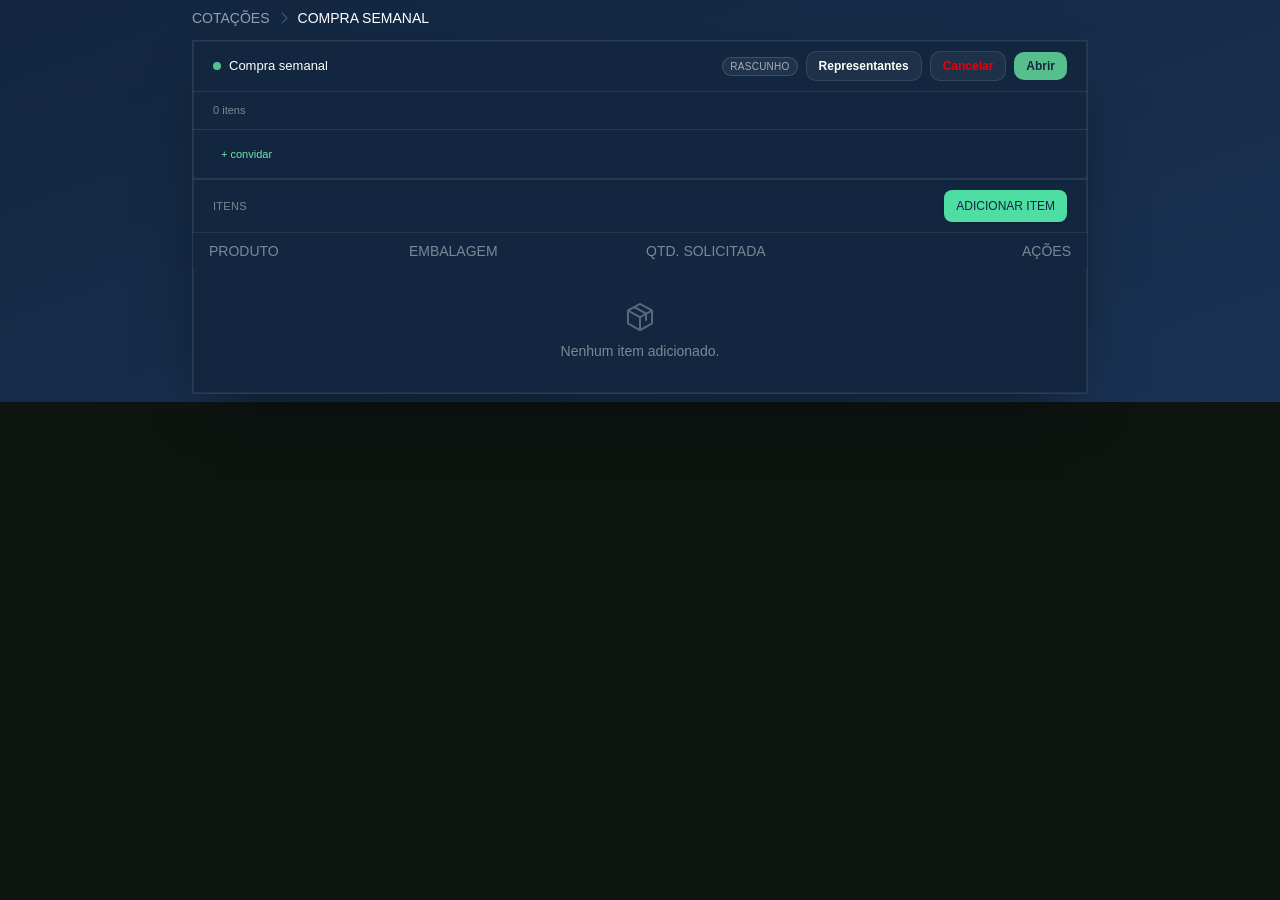
Test: 3.2 — em RASCUNHO adiciona e remove item
Expected: the heading "Compra semanal" is shown, top-left (229, 56), bottom-right (328, 76)
Click the button "Adicionar item". click: {"x": 1006, "y": 206}
box: top-left (944, 190), bottom-right (1067, 222)
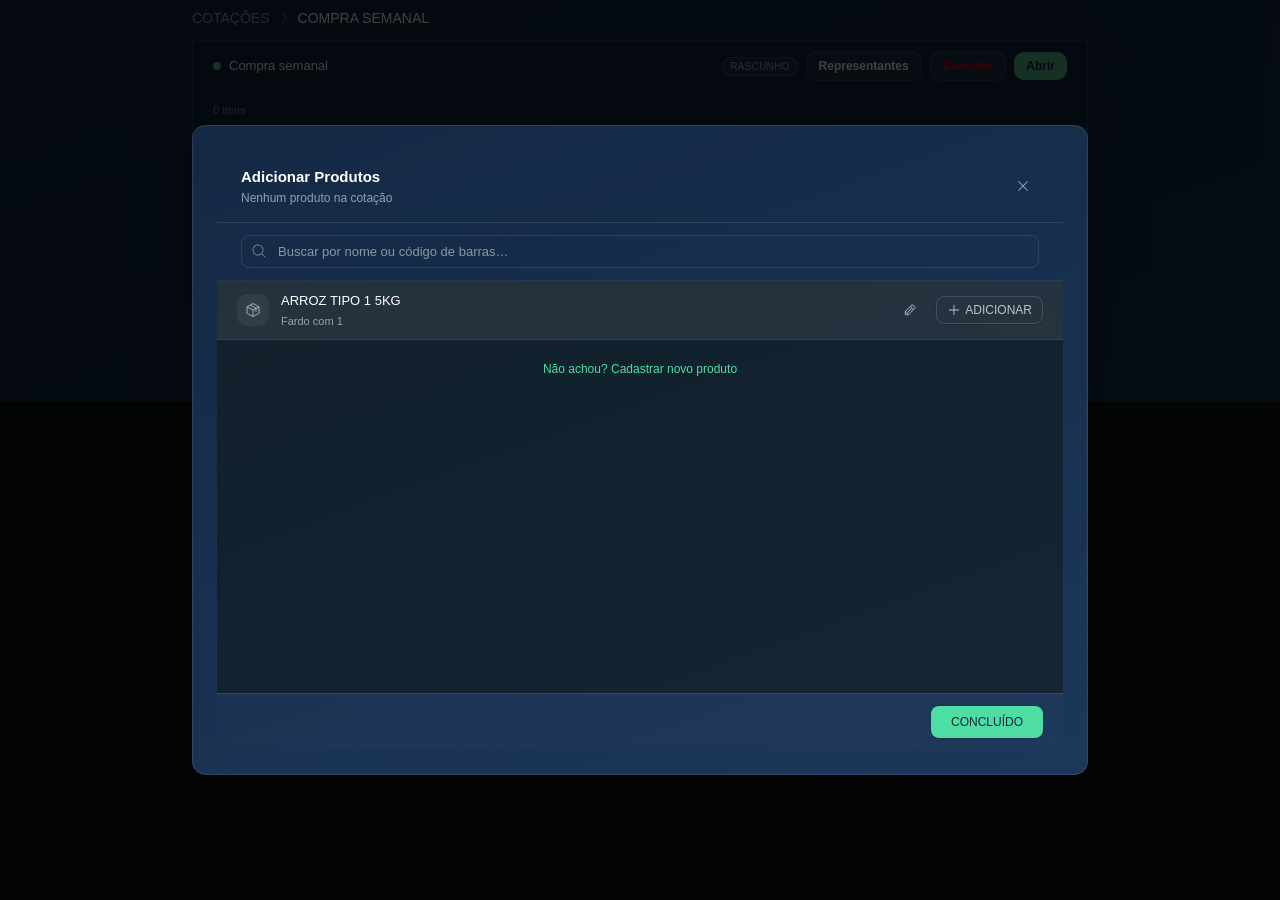
Expected: the text "Arroz Tipo 1 5kg" is shown, top-left (281, 293), bottom-right (401, 308)
# Clicar na linha adiciona o item na hora (sem rascunho/salvar em lote).
Click the button with aria-label "Adicionar Arroz Tipo 1 5kg à cotação". click: {"x": 990, "y": 310}
box: top-left (936, 296), bottom-right (1043, 324)
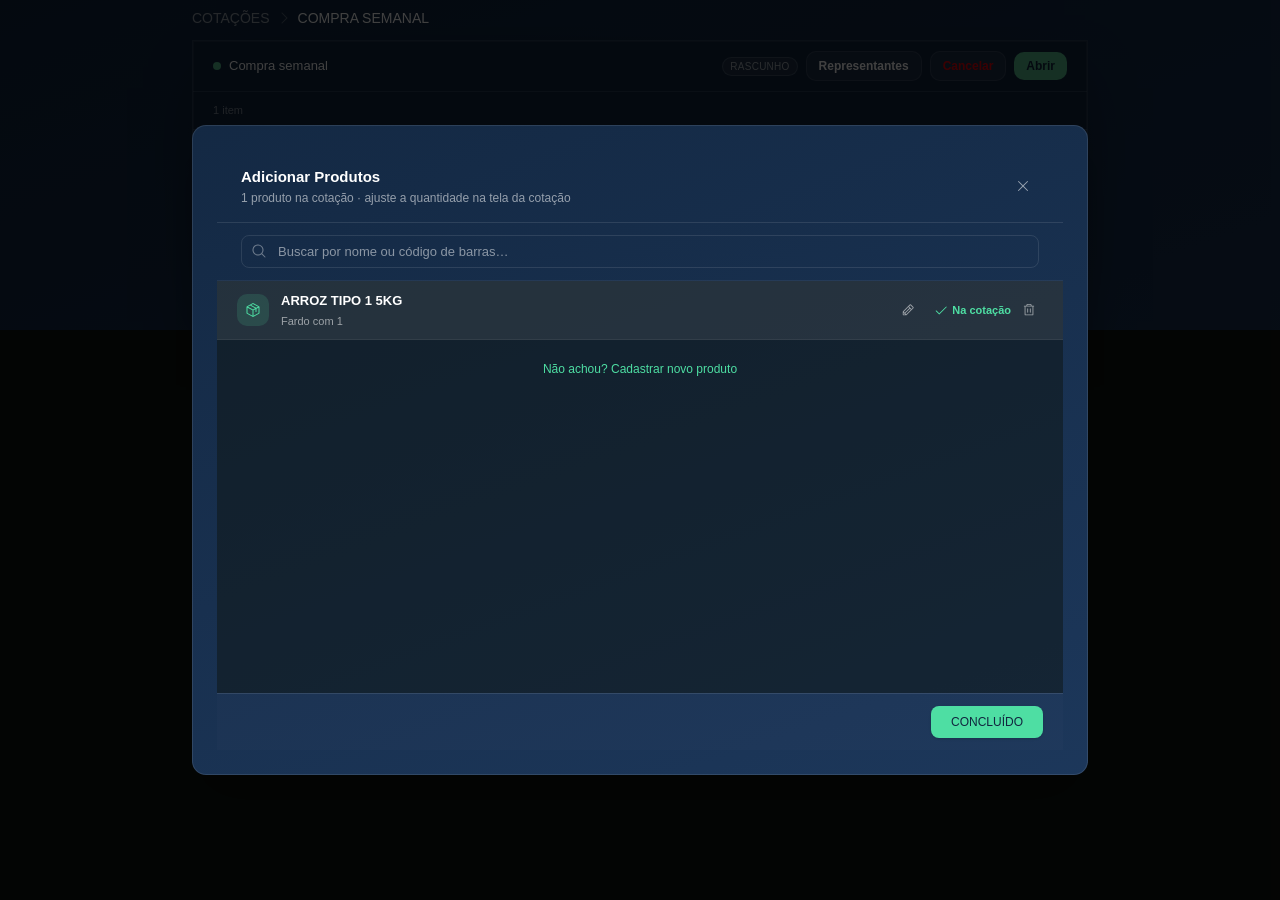
Click the button "Concluído". click: {"x": 987, "y": 722}
box: top-left (931, 706), bottom-right (1043, 738)
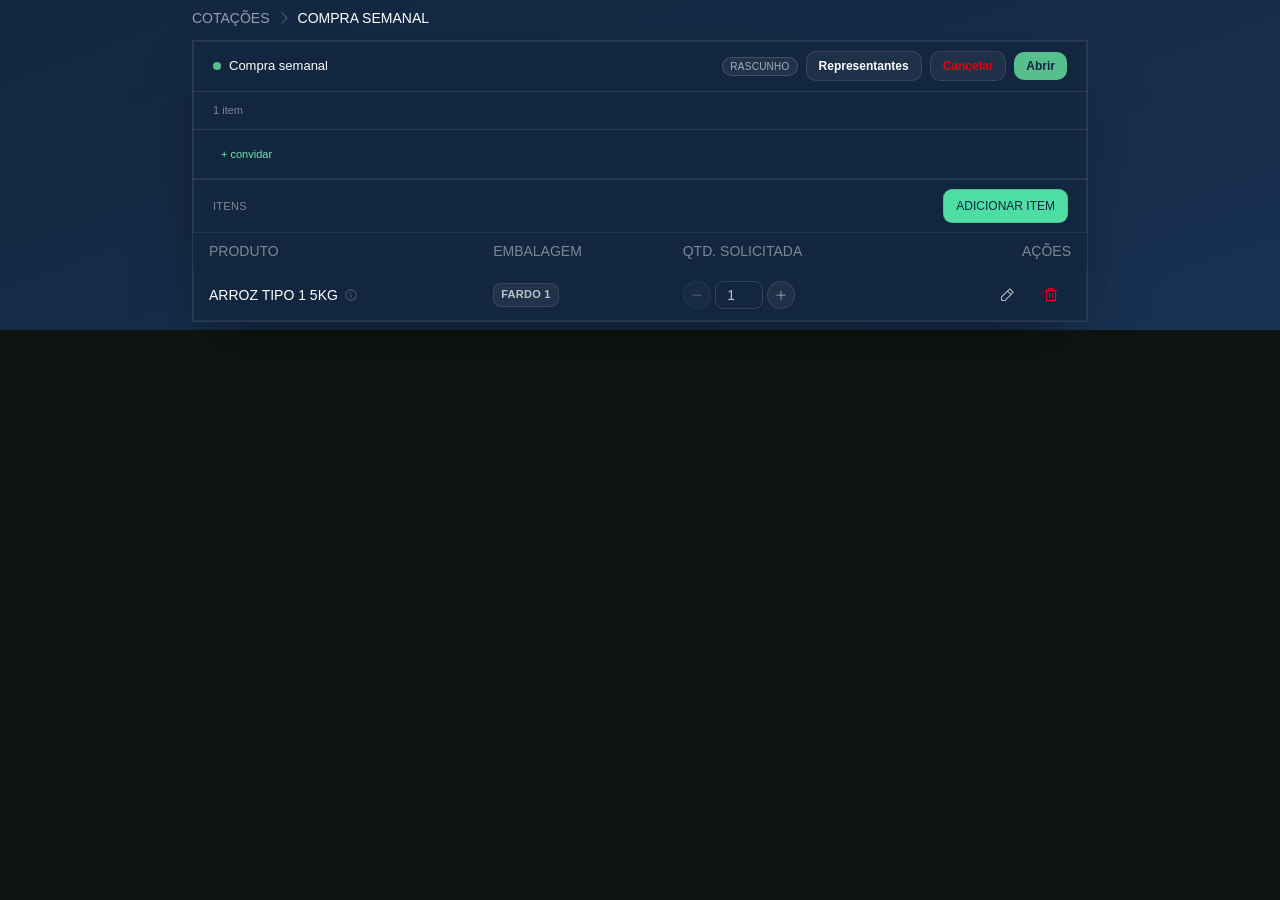
Expected: the cell "Arroz Tipo 1 5kg" is shown, top-left (193, 269), bottom-right (477, 321)
Expected: the dialog is gone
Click the button named "Remover". click: {"x": 1051, "y": 295}
box: top-left (1031, 279), bottom-right (1071, 311)
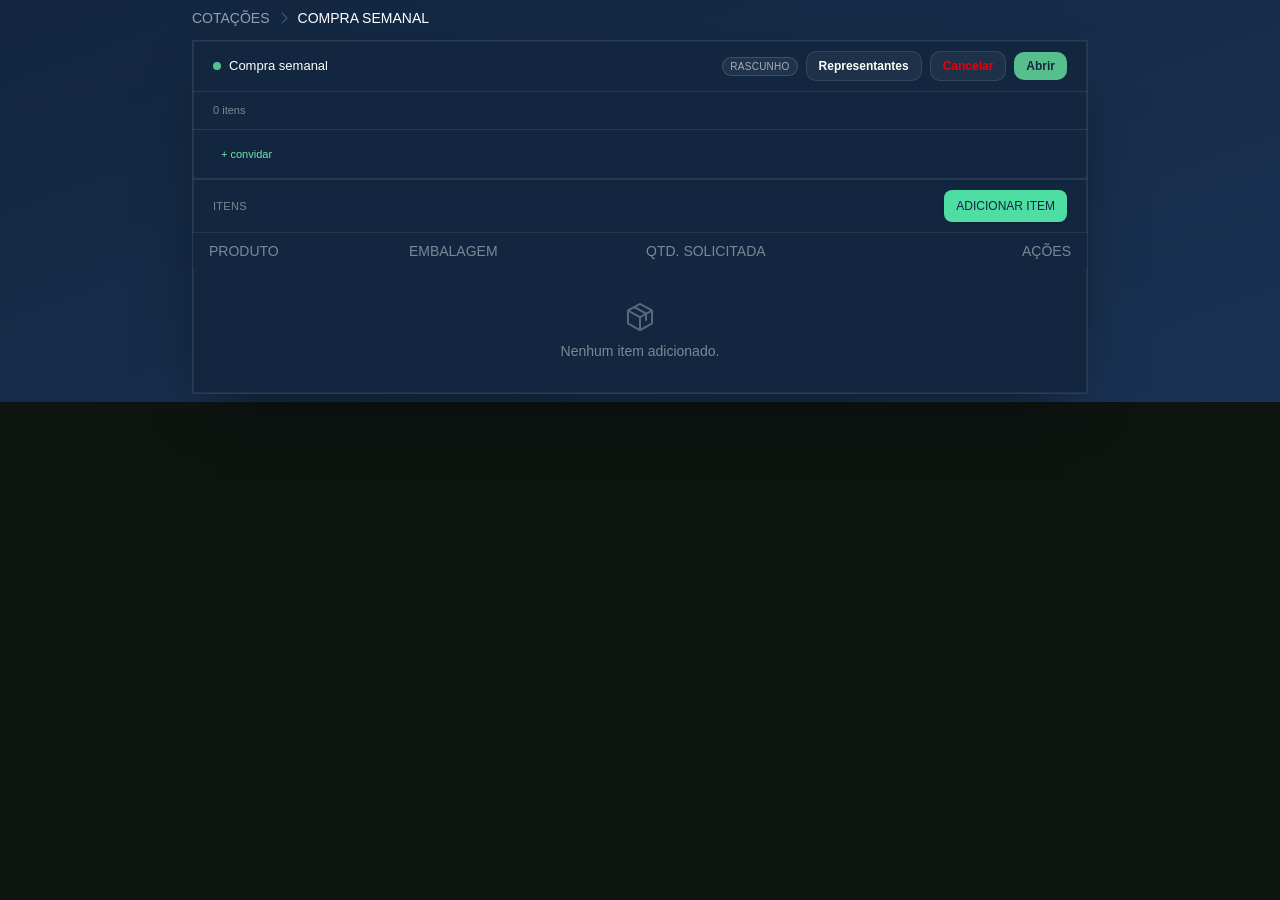
Expected: the text "Arroz Tipo 1 5kg" is gone
